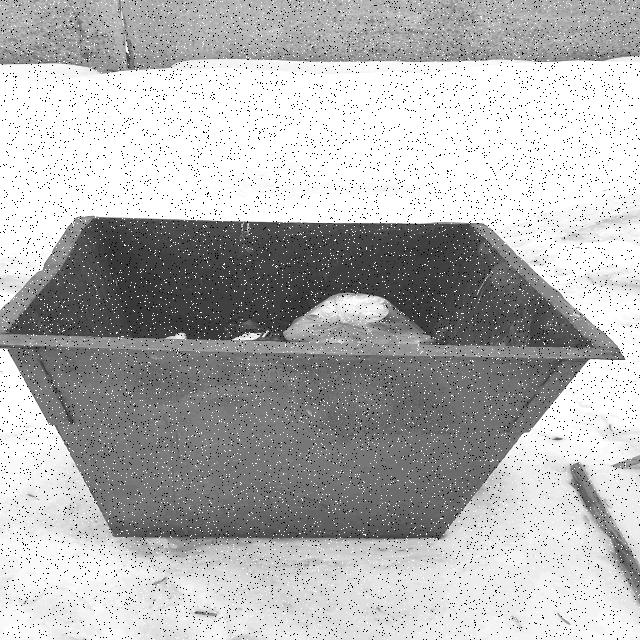Trashcan: (0, 181, 625, 572)
